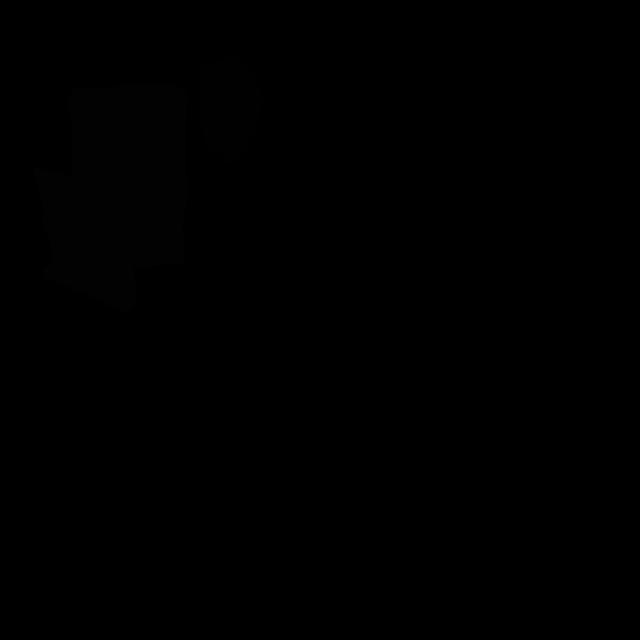cardboard: (67, 84, 190, 267), (31, 165, 137, 314)
rigid_plastic: (198, 55, 262, 164)
